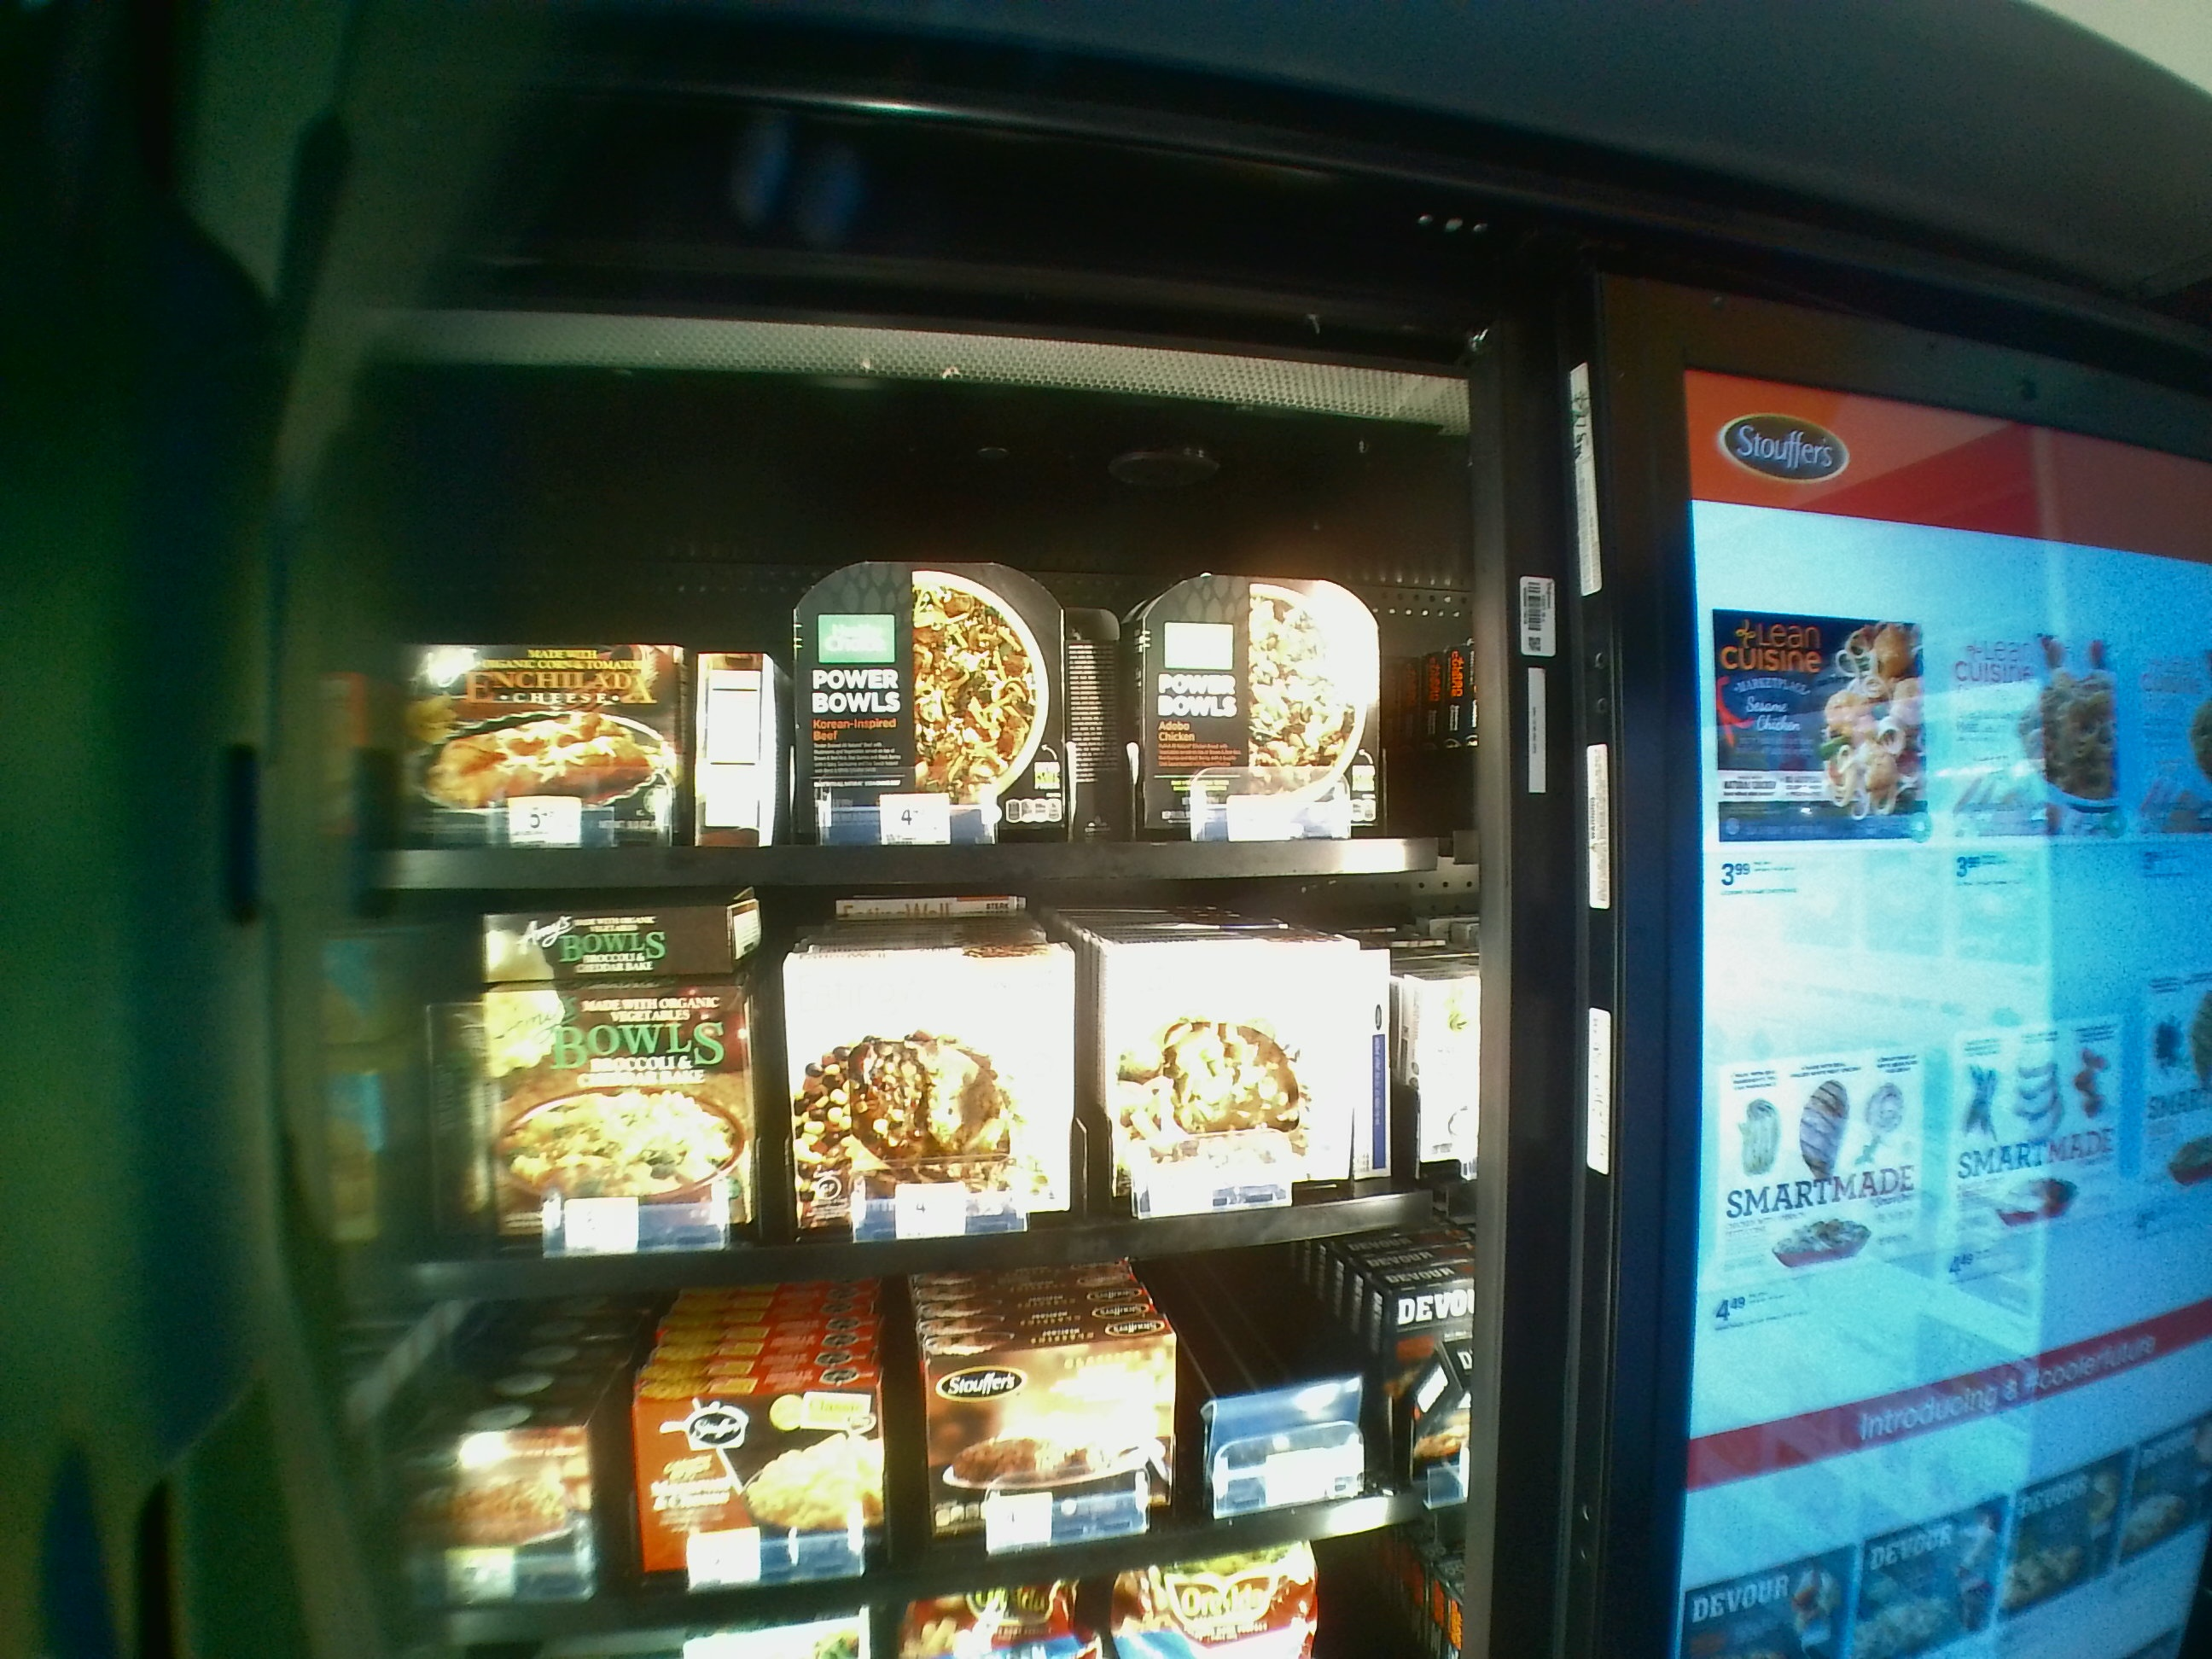shelf: (364, 425, 1463, 889), (366, 903, 1479, 1300)
